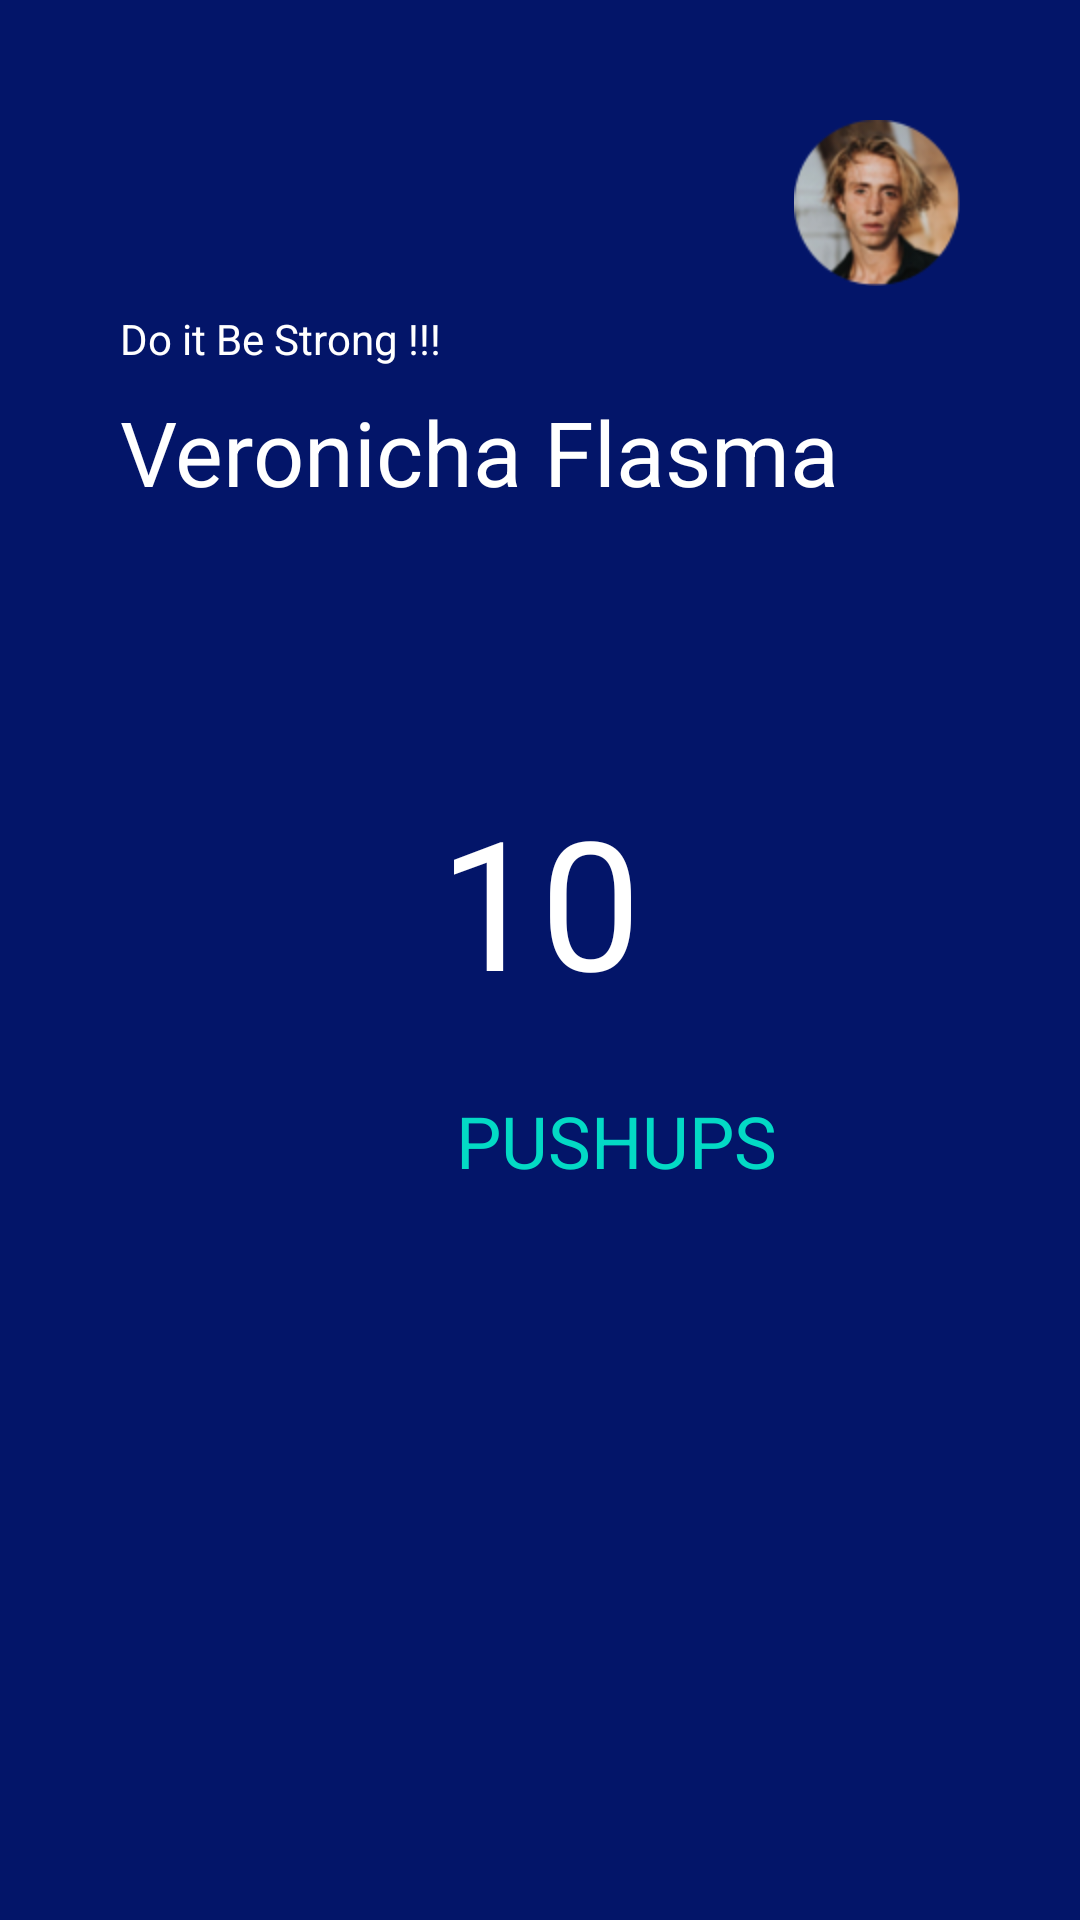

Screen size 1080 x 1920. Icon name, then its center in pixels as point (x, y):
profile: point (877, 203)
